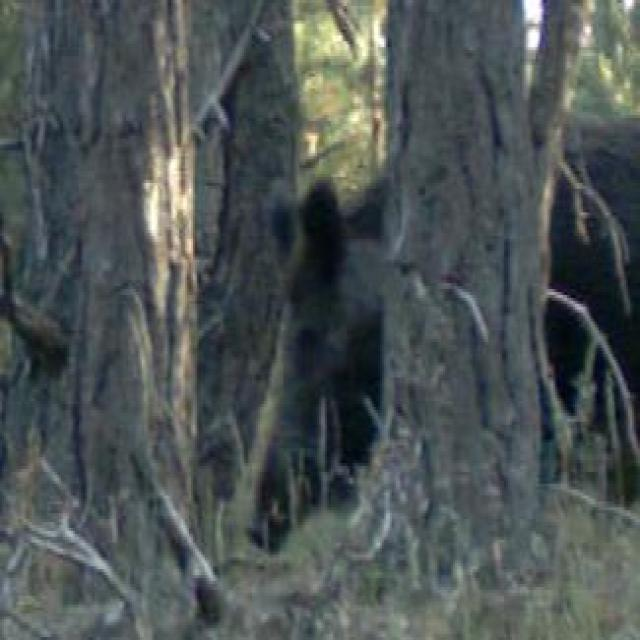pig: (242, 119, 640, 510)
